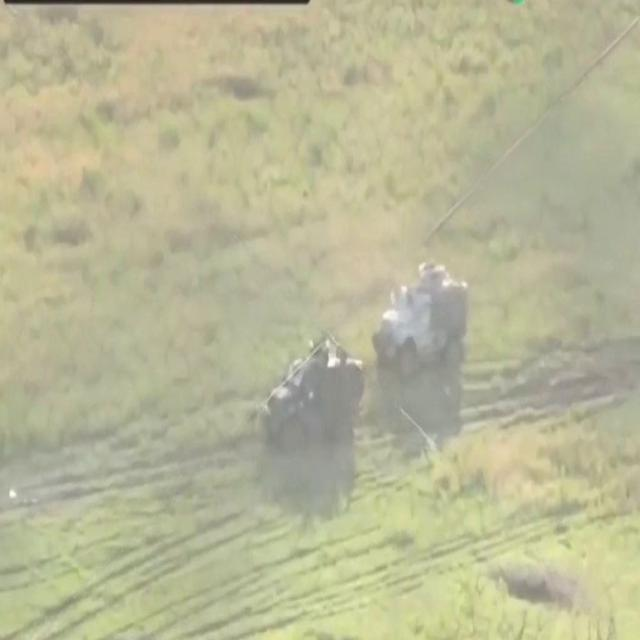Vehicle: (262, 332, 367, 457), (373, 260, 472, 373)
